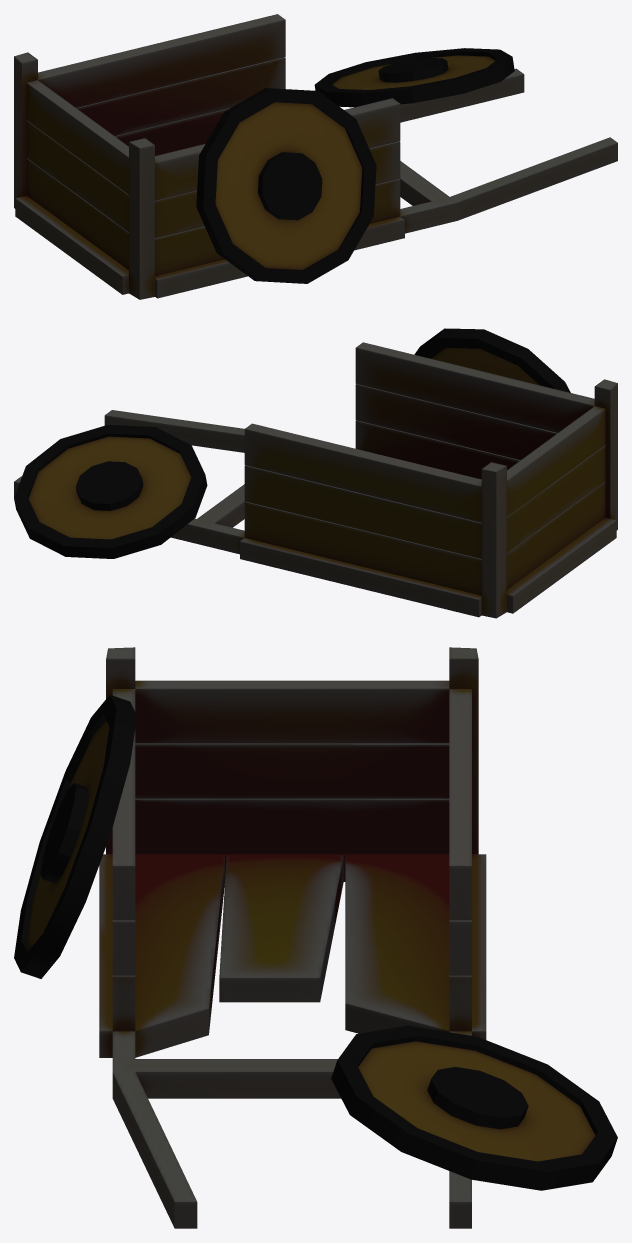
Rendered from arabaK.fbx.
The picture shows the model from 3 angles, top to bottom: view 1: azimuth 30°, elevation 25°; view 2: azimuth 150°, elevation 25°; view 3: azimuth 270°, elevation 25°; orthographic projection. The views are drawn at different scales.
Visible parts, largest first — view 1: Cube.046; view 2: Cube.046; view 3: Cube.046.
Part boxes in pixels (x1,y1,x2,y2): Cube.046: (14, 14, 617, 299); Cube.046: (14, 328, 617, 618); Cube.046: (14, 647, 617, 1228).
Size of the model in its own units: 627 by 208 by 440.
